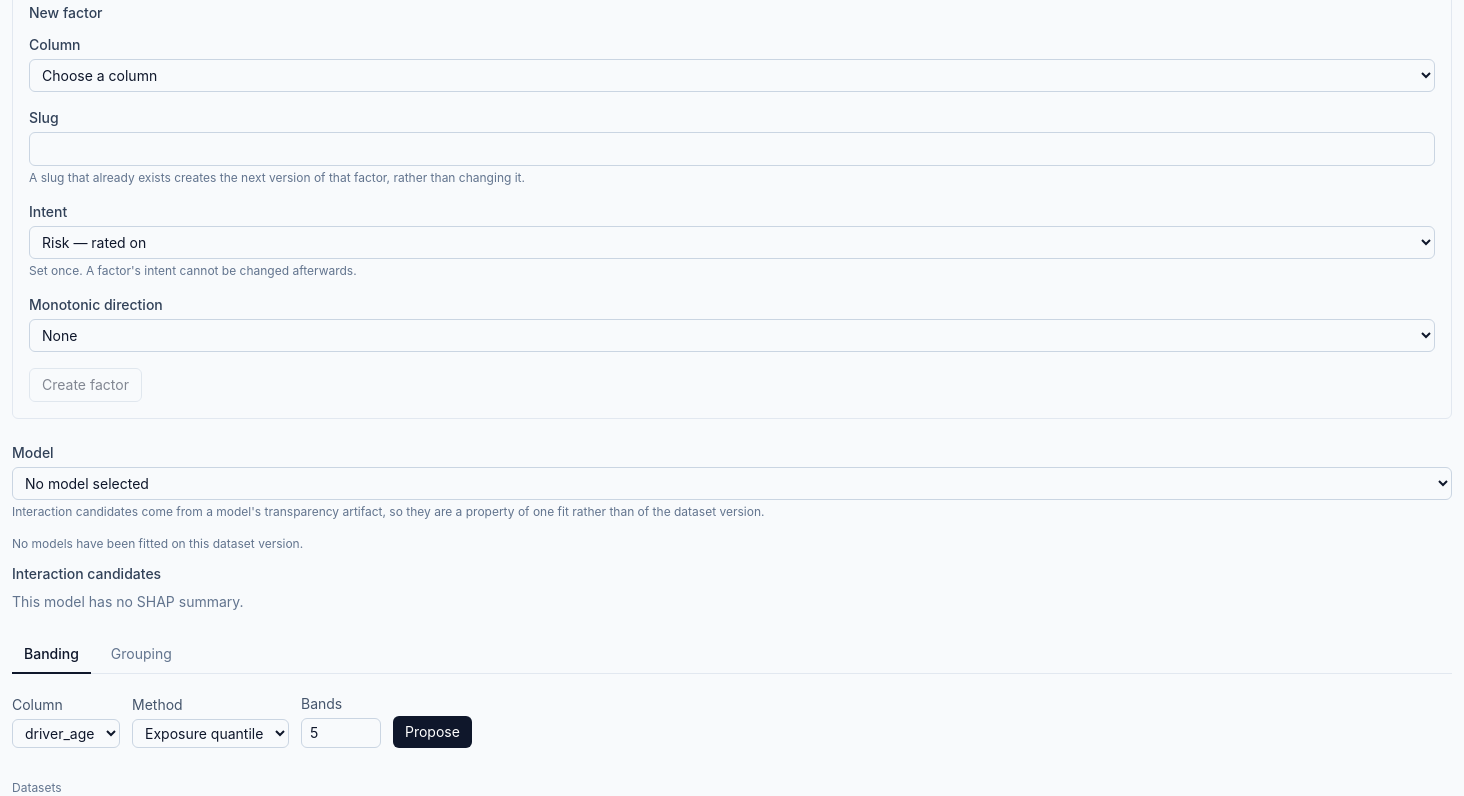
Test: the factor workbench › saves the edited banding against the dataset the version belongs to
This screenshot has width=1464, height=796.
(page scrolled)
Click the button "Propose". click: (432, 732)
box: [393,716,472,748]
(page scrolled)
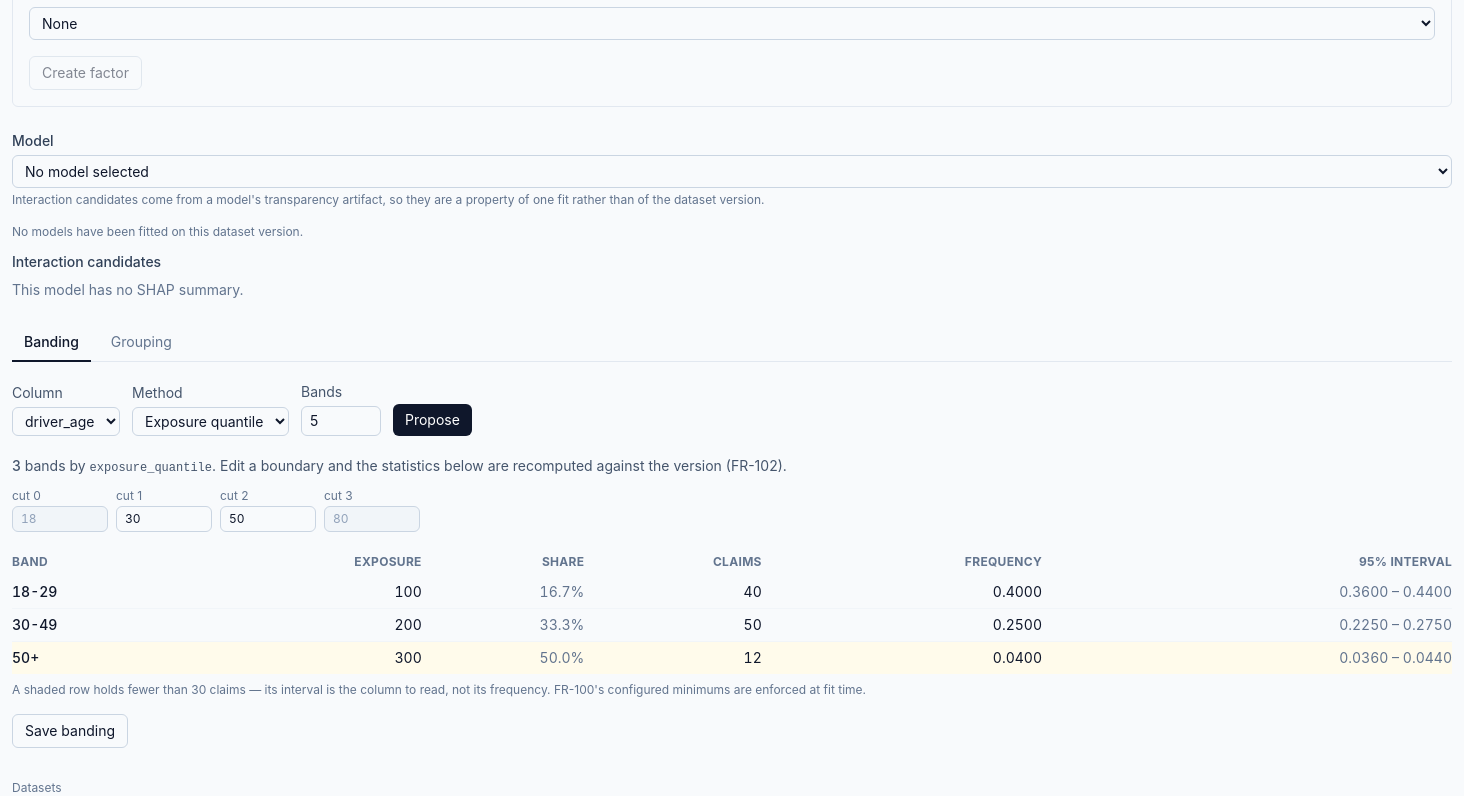
Click the button "Save banding". click: (70, 731)
box: [12,714,128,748]
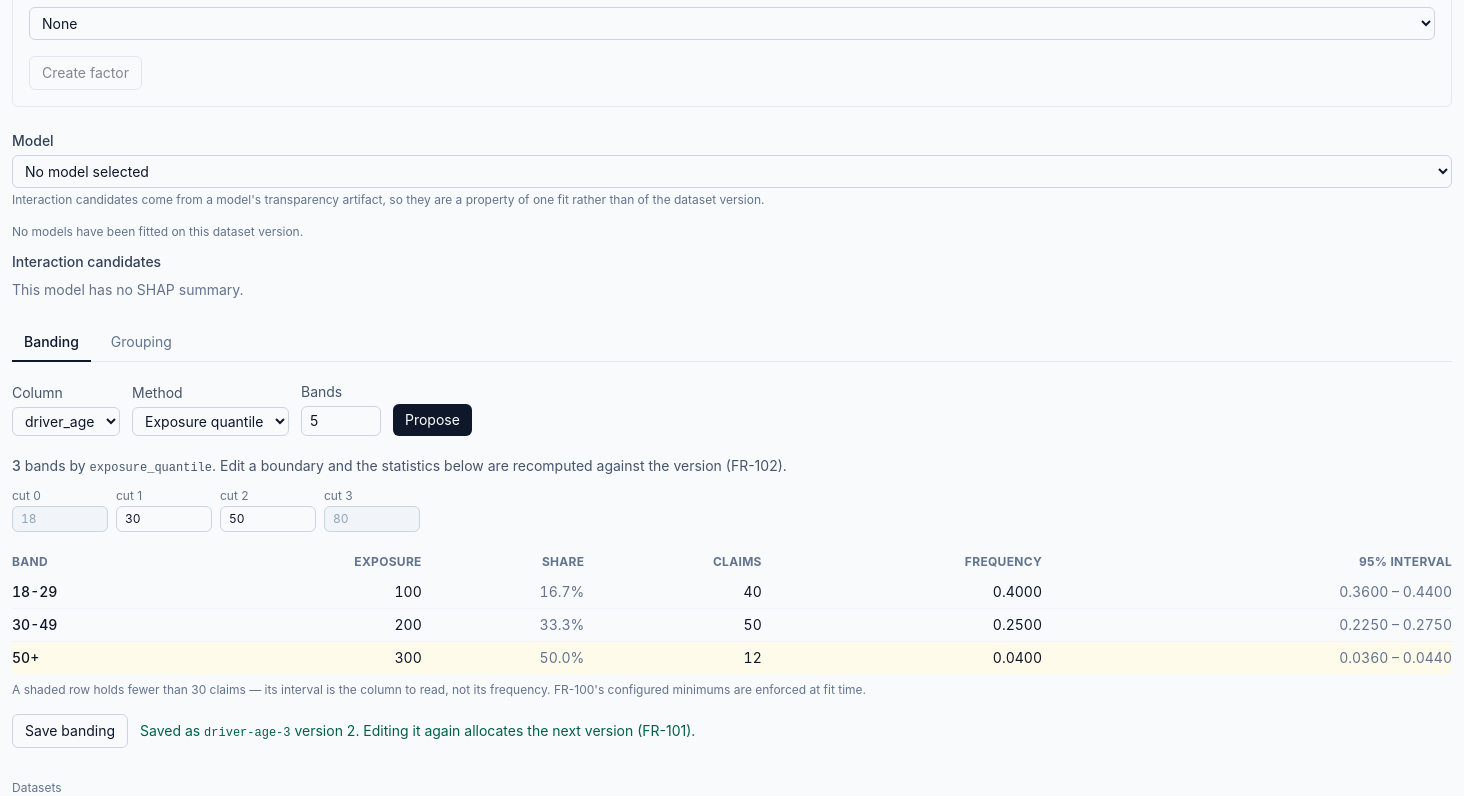
Now the text "version 2" is shown, box [290,722,695,739]
